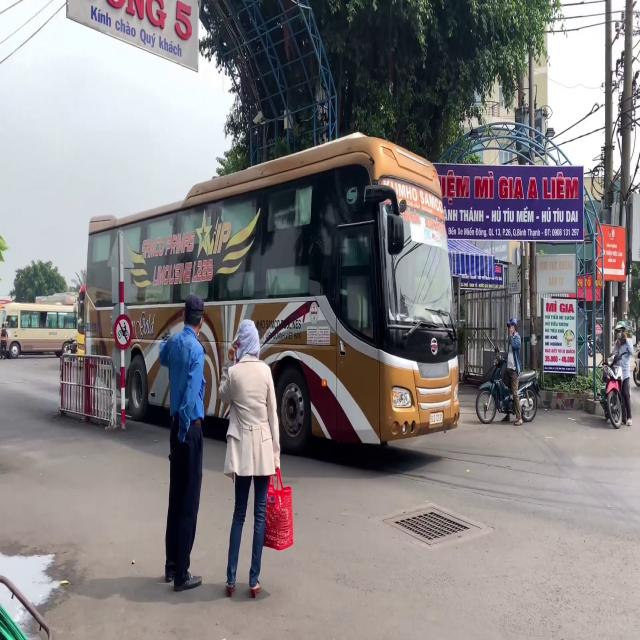bien_trang: (429, 412, 443, 424)
